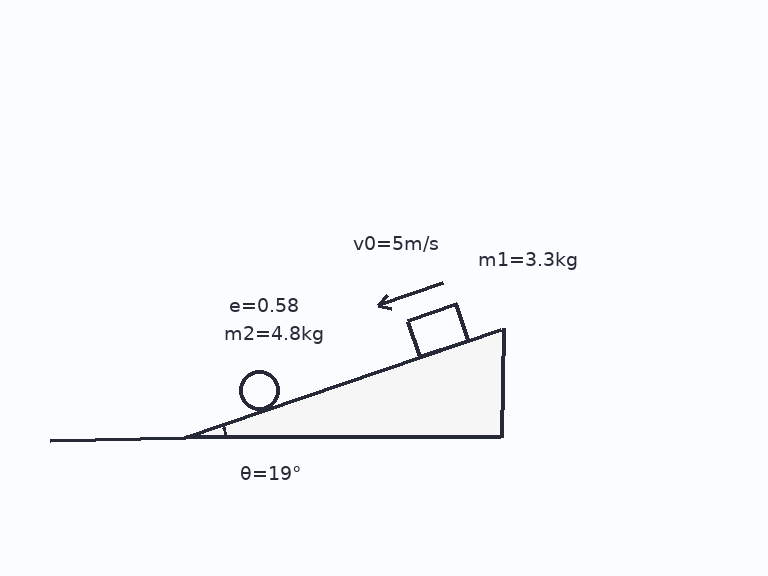ball: (237, 368, 281, 412)
block: (405, 302, 470, 358)
ramp: (183, 326, 503, 439)
